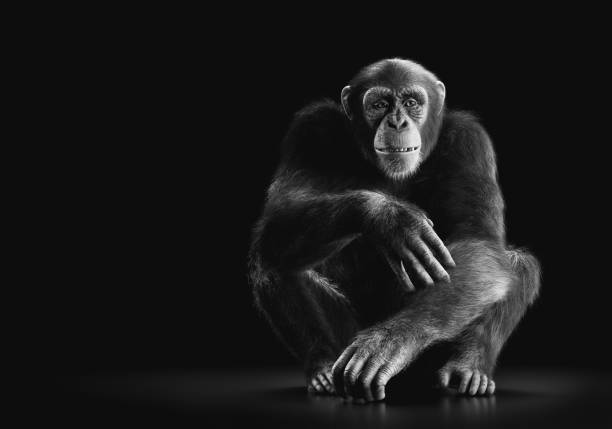chimpanzee: (318, 45, 462, 185)
